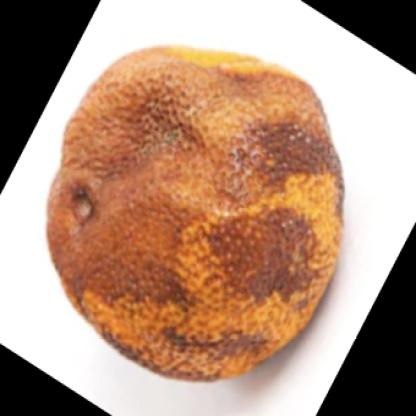rotten: (48, 41, 348, 385)
